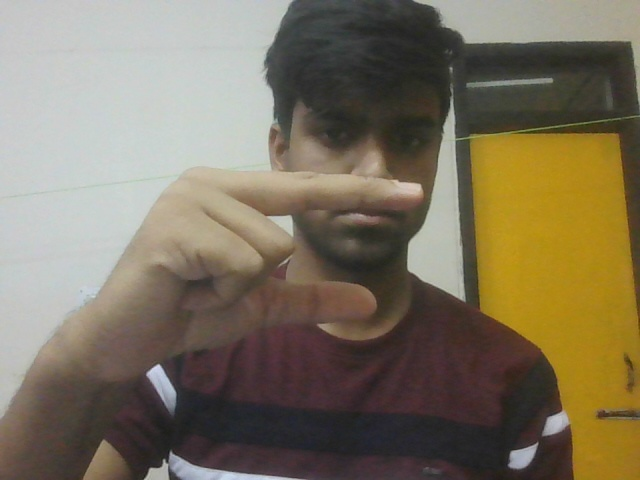no: (51, 154, 432, 378)
